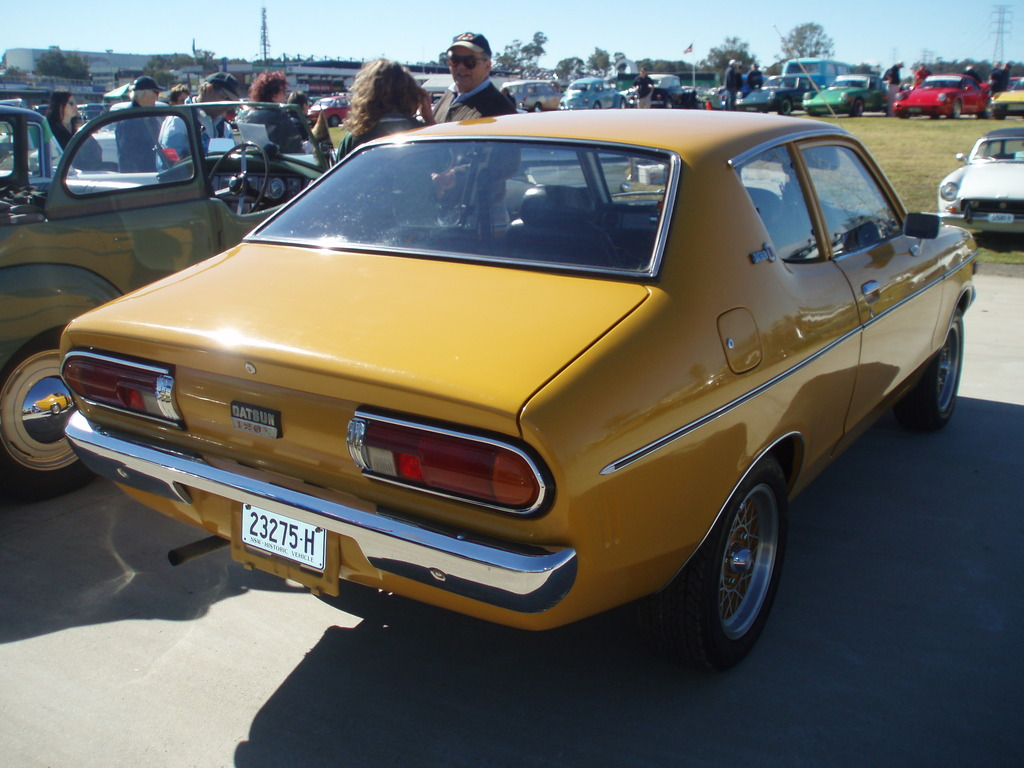mobil: (52, 115, 985, 683)
